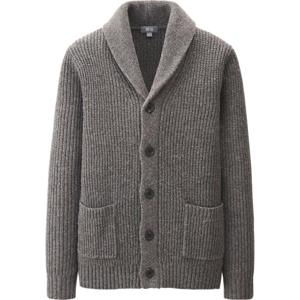S_cardigan sweater: (50, 11, 248, 300)
